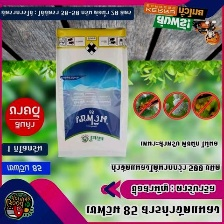insecticide: (48, 23, 130, 161)
